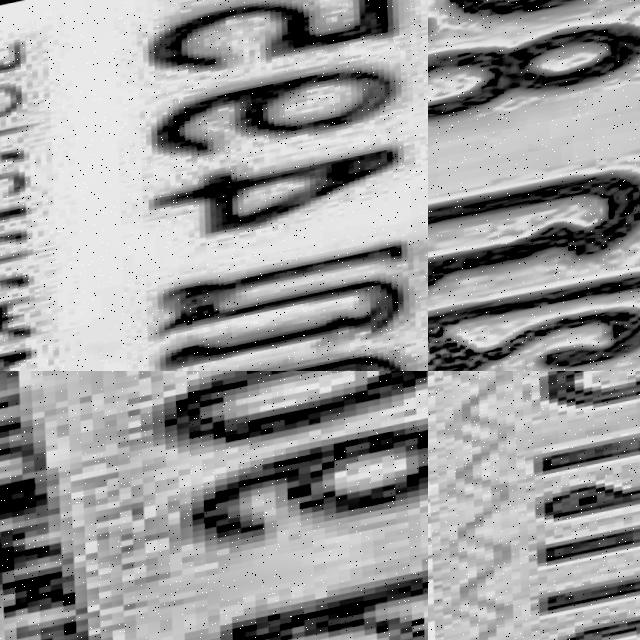license-plate: (0, 0, 428, 371), (0, 371, 428, 640), (428, 0, 640, 371), (428, 371, 640, 640)
